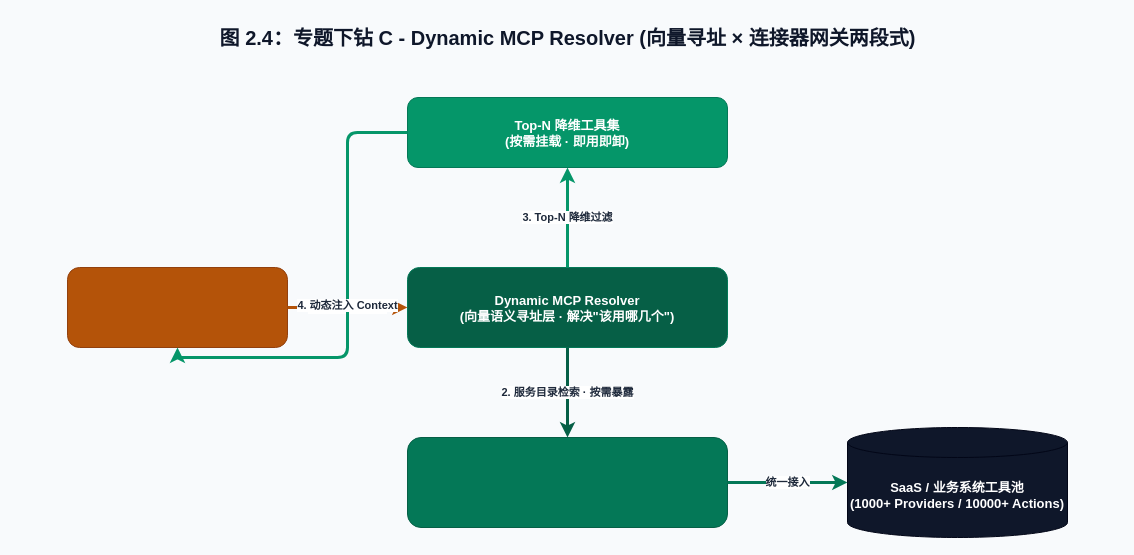
This 1134x555 diagram has some shape labels left out. Each missing label, with the centre of its shape:
Connector Gateway 连接器网关 (统一接入层 · OpenConnector 工程实证 · 解决"能不能连"): [567,482]
Task 上下文: [177,307]
